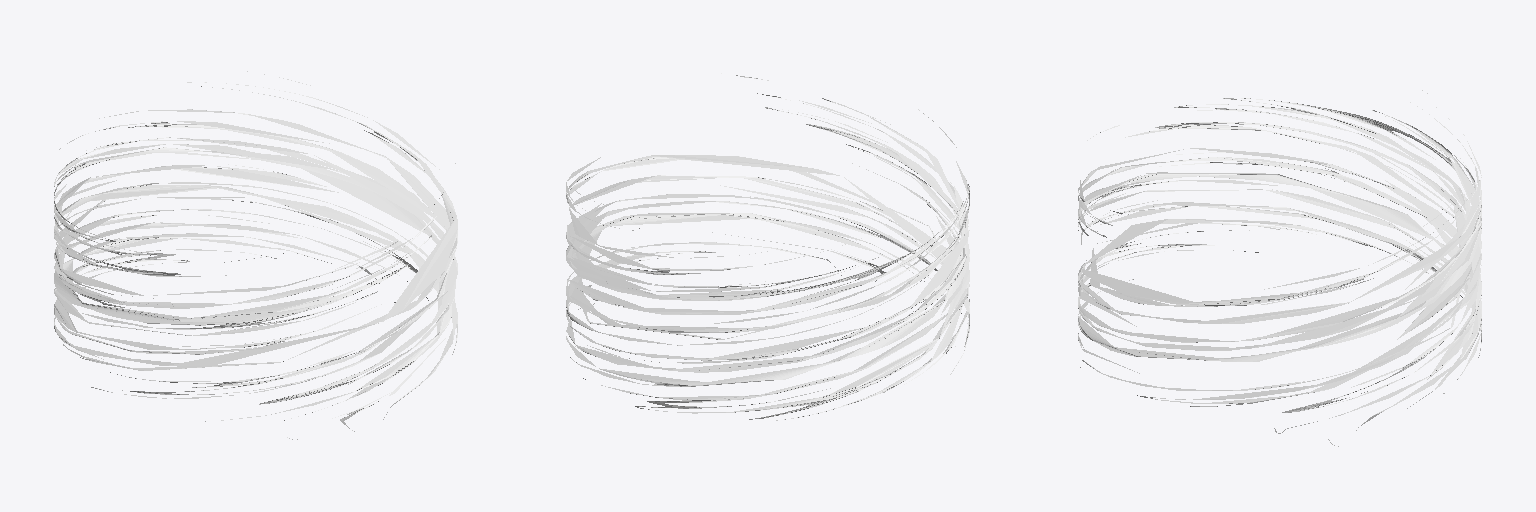
File: TornadoCylinder1.obj
3 views of the same model, side by side, from view 1: azimuth 30°, elevation 25°; view 2: azimuth 150°, elevation 25°; view 3: azimuth 270°, elevation 25° (orthographic).
Visible parts, largest first — view 1: Vento21; view 2: Vento21; view 3: Vento21.
Boxes of the visible parts, <box> form: Vento21: <box>54,71,457,439</box>; Vento21: <box>566,73,969,420</box>; Vento21: <box>1078,90,1481,446</box>.
Bounding box in the file's own units: 8.84 × 5.26 × 8.84.